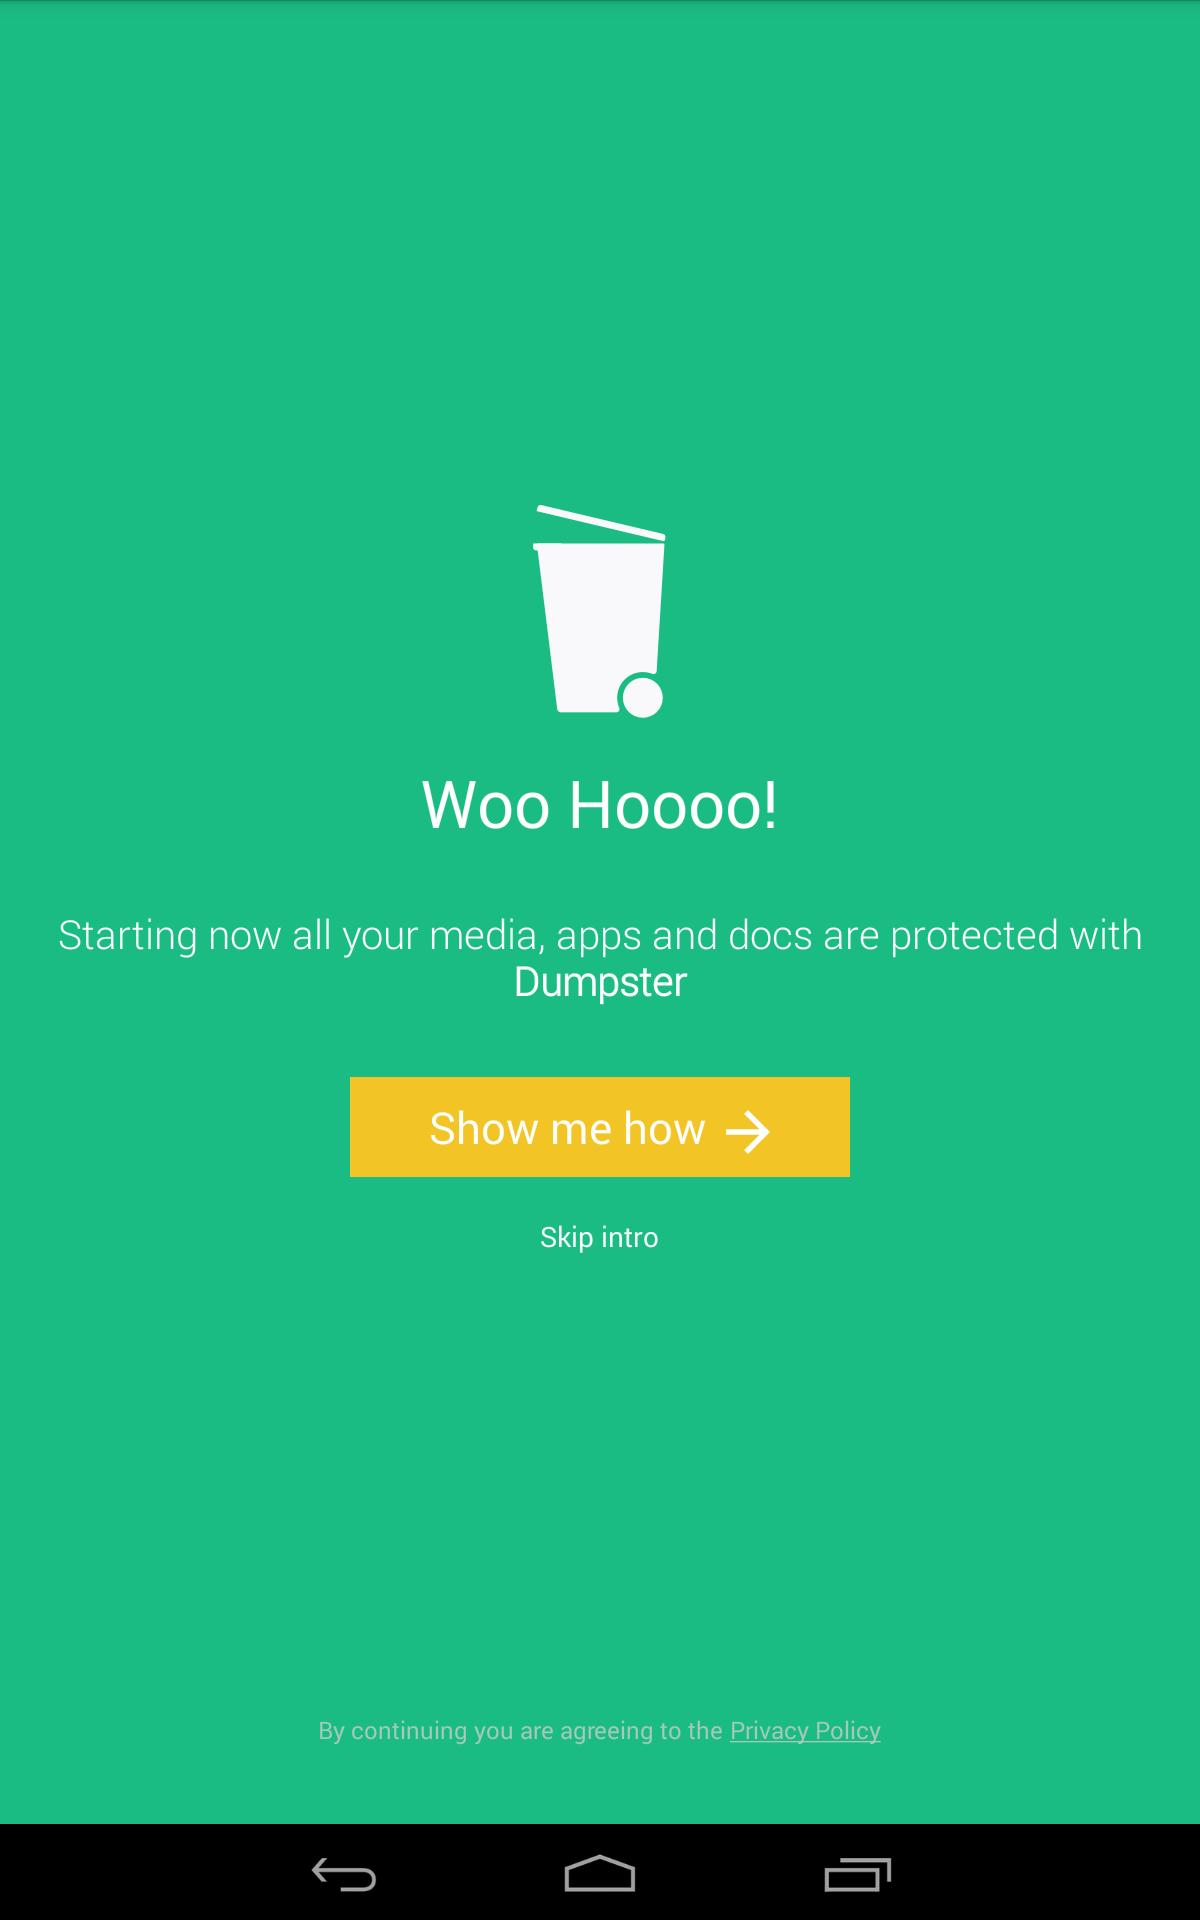android.support.v4.view.ViewPager: (0, 0, 1200, 1620)
android.view.View: (706, 1077, 726, 1176)
android.widget.FrameLayout: (0, 0, 1200, 1825), (0, 0, 1200, 1620), (0, 1620, 1200, 1840)
android.widget.ImageView: (534, 505, 666, 717), (726, 1077, 770, 1176)
android.widget.LinearLayout: (0, 0, 1200, 1825), (0, 0, 1200, 1620), (0, 1620, 1200, 1840), (350, 1077, 850, 1176)
android.widget.ScrollView: (0, 0, 1200, 1620)
android.widget.TextView: (19, 905, 1181, 1037), (420, 717, 780, 886), (429, 1077, 706, 1176), (318, 1713, 724, 1746), (520, 1197, 679, 1274), (724, 1713, 881, 1746)
